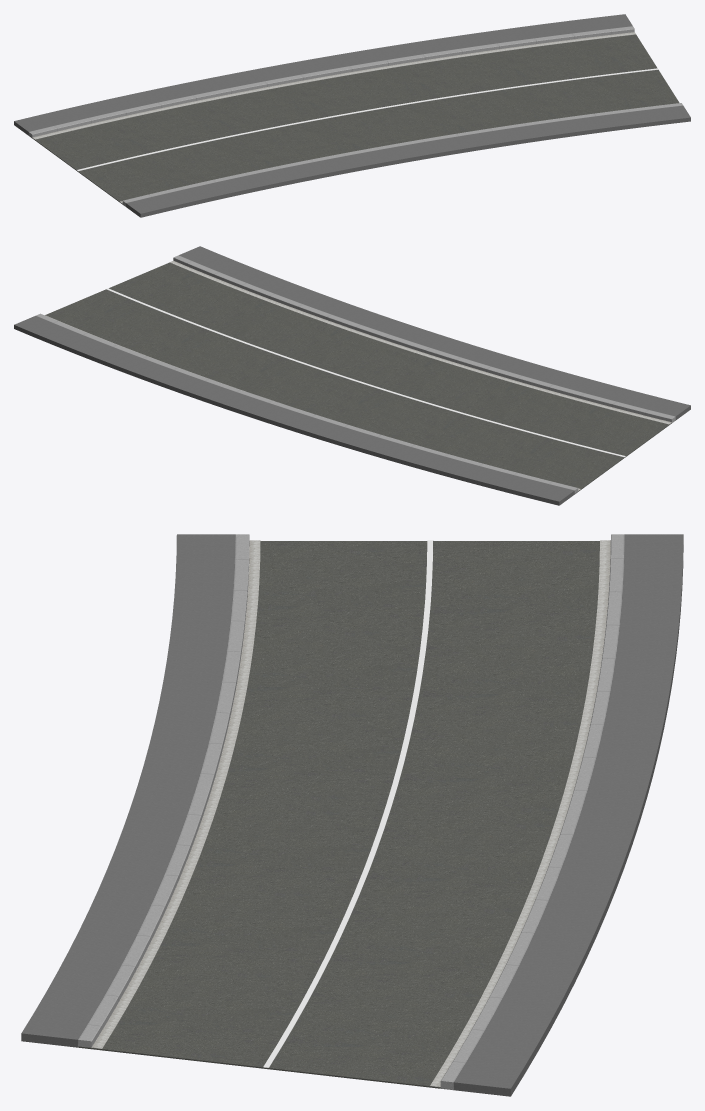
The model's file is routeCourbe2VoiesAvecTrottoirs26m.obj.
3 renders of one model, top to bottom at view 1: azimuth 30°, elevation 25°; view 2: azimuth 150°, elevation 25°; view 3: azimuth 270°, elevation 25°, orthographic. The views are drawn at different scales.
Visible parts, largest first — view 1: roadCourbe2VoiesAvecTrottoirs26m_Plane.042; view 2: roadCourbe2VoiesAvecTrottoirs26m_Plane.042; view 3: roadCourbe2VoiesAvecTrottoirs26m_Plane.042.
Boxes of the visible parts, x1=… form: roadCourbe2VoiesAvecTrottoirs26m_Plane.042: x1=14, y1=14, x2=690, y2=217; roadCourbe2VoiesAvecTrottoirs26m_Plane.042: x1=14, y1=246, x2=690, y2=505; roadCourbe2VoiesAvecTrottoirs26m_Plane.042: x1=21, y1=534, x2=683, y2=1096.
Bounding box in the file's own units: 2706 × 18 × 1366.
